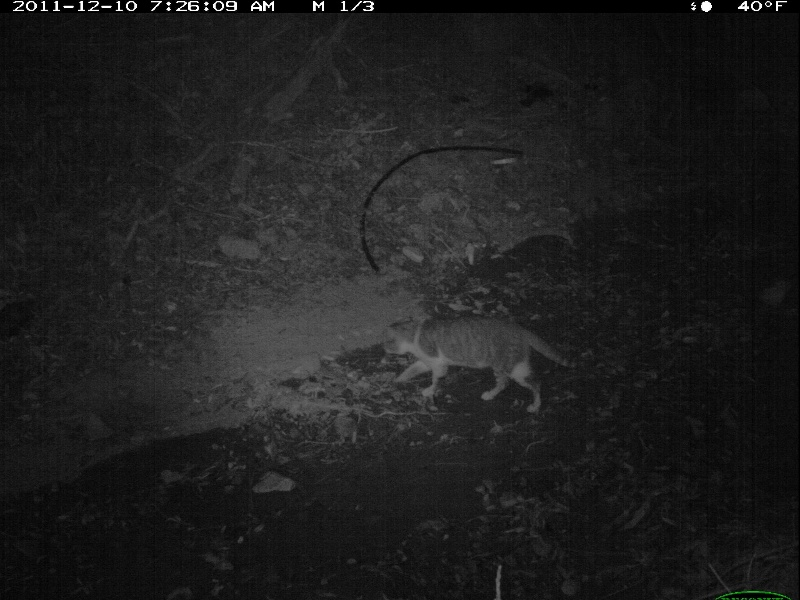cat: (381, 312, 576, 413)
